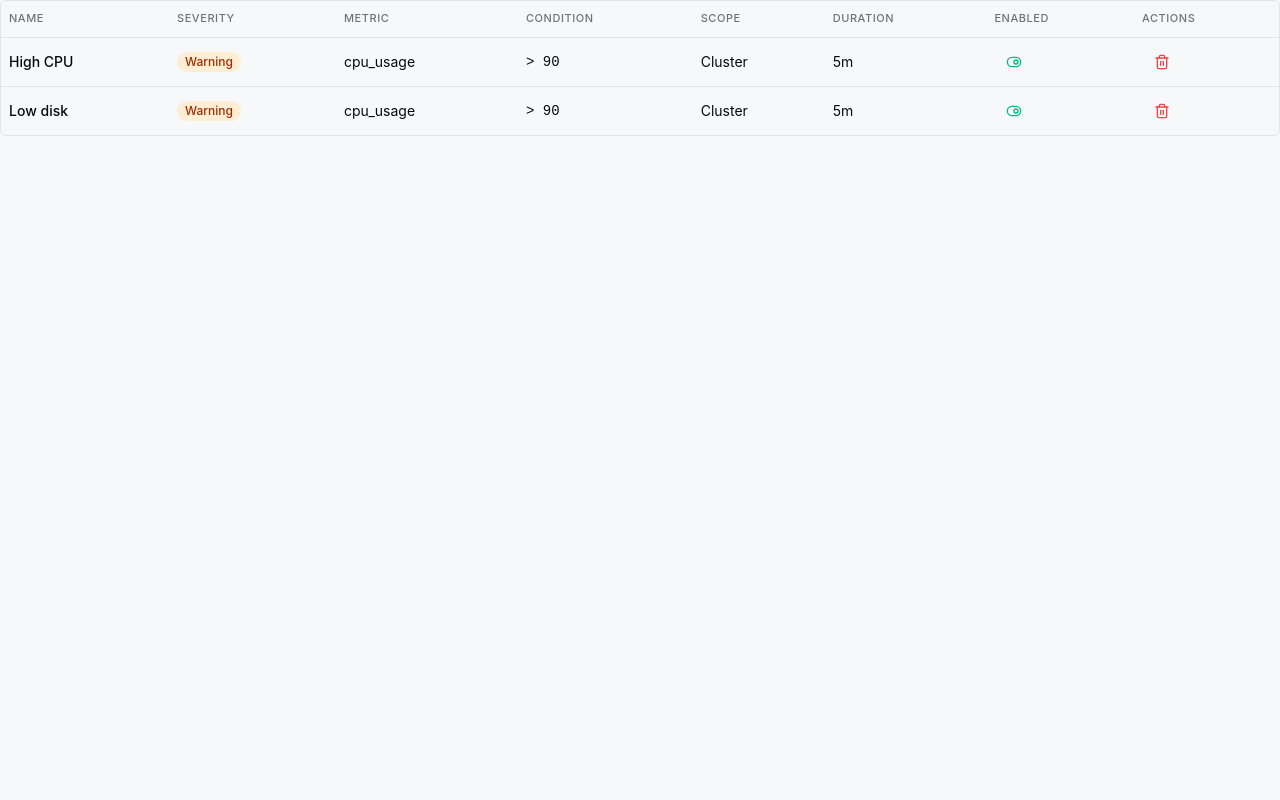
Test: AlertRulesTable — delete › Cancel sends nothing
Click the button named "Delete rule" in the row of "Low disk" at (1162, 110), box [1142,94,1182,126]
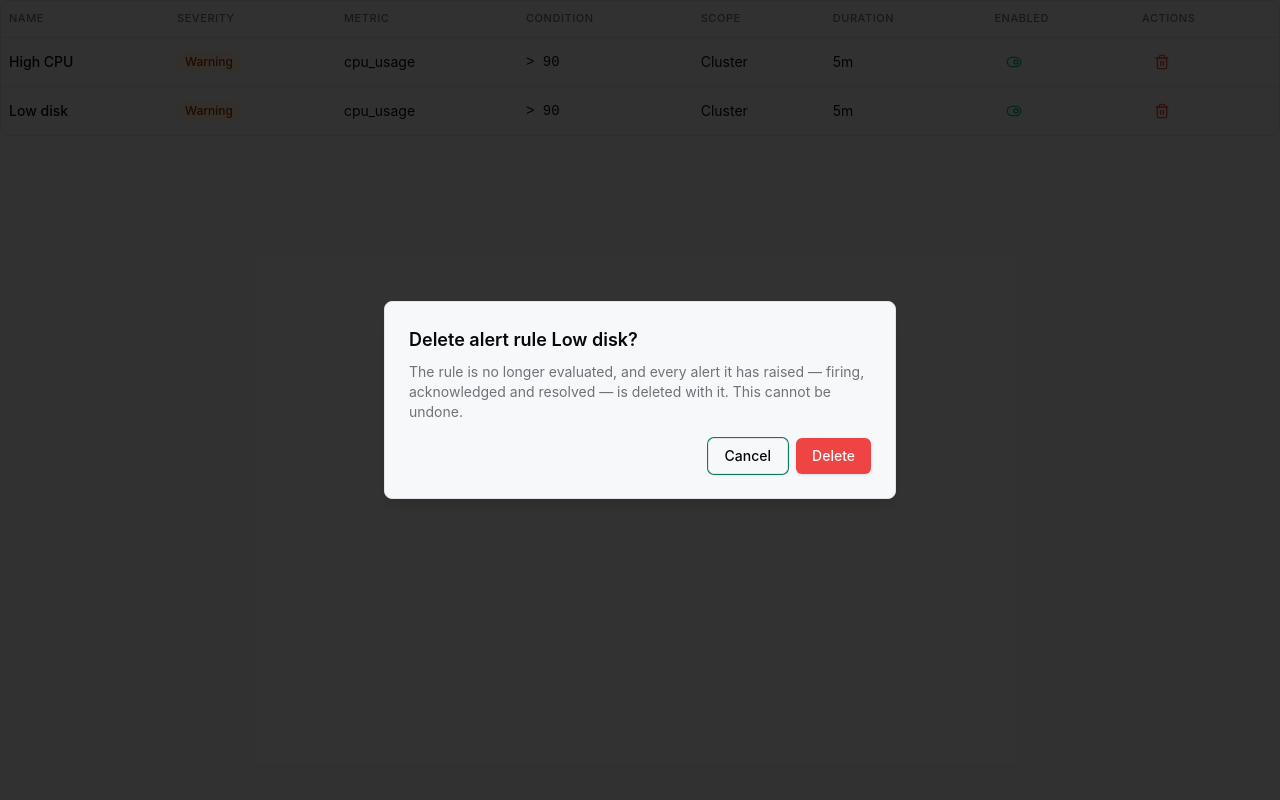
Click the button "Cancel" at (748, 456), box [708,438,788,474]
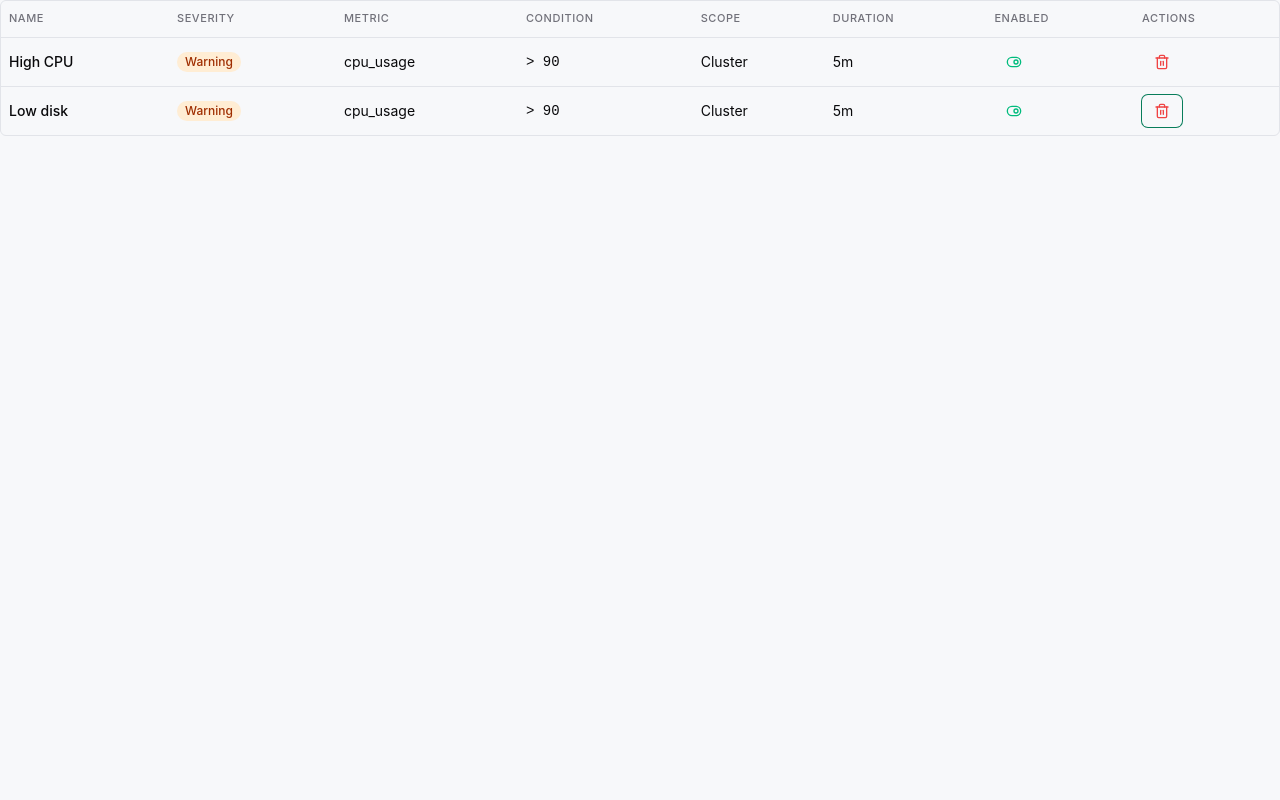
Check: the dialog is gone
